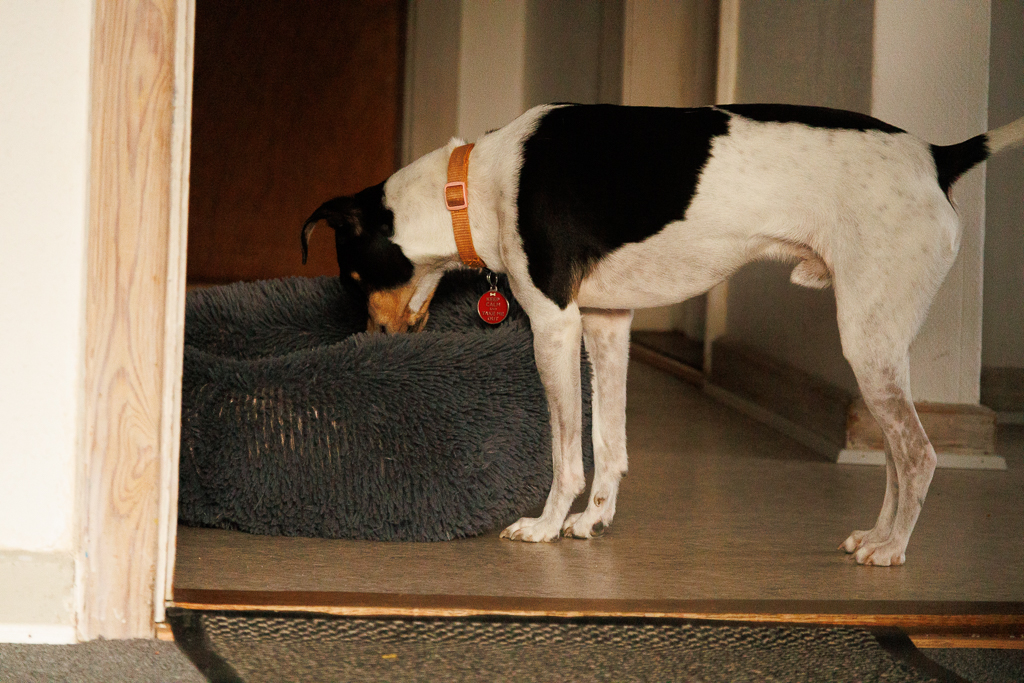Dog: (294, 93, 1024, 573)
